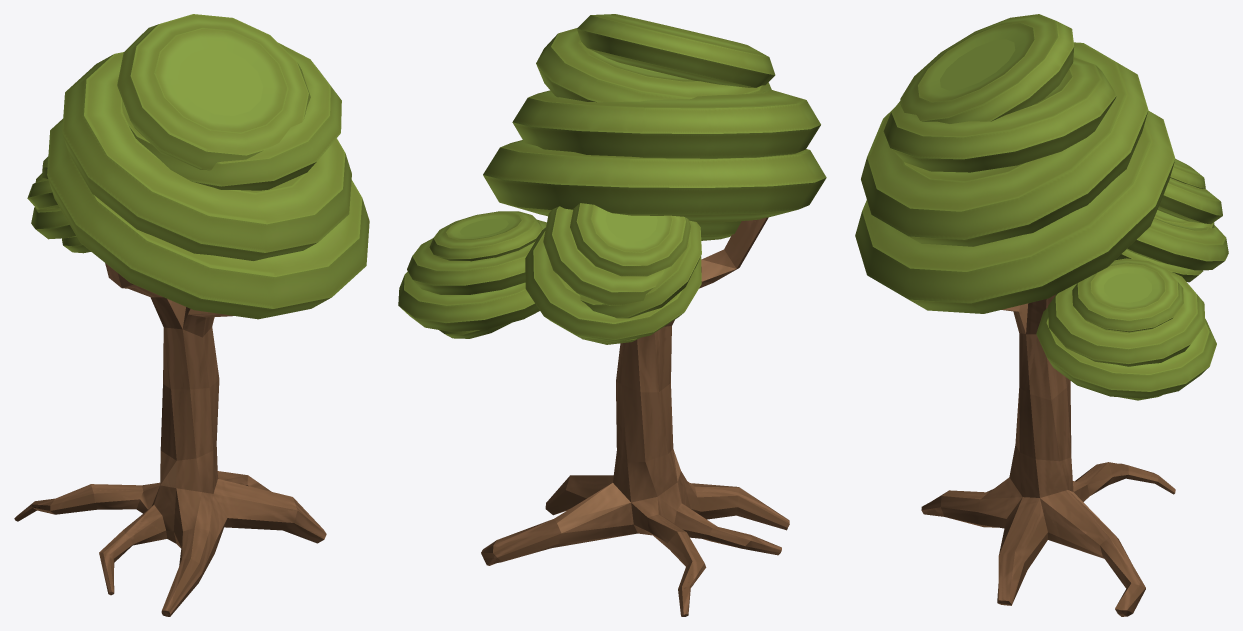
The model's file is Oak.fbx.
The picture shows the model from 3 angles, left to right: view 1: azimuth 30°, elevation 25°; view 2: azimuth 150°, elevation 25°; view 3: azimuth 270°, elevation 25°; orthographic projection.
Parts seen in each view (by area): view 1: Oak; view 2: Oak; view 3: Oak.
Boxes of the visible parts, left/top/right/bottom form: Oak: left=14, top=14, right=369, bottom=616; Oak: left=398, top=14, right=826, bottom=616; Oak: left=855, top=14, right=1228, bottom=616.
Size of the model in its own units: 11.24 by 17.35 by 11.07.
Materials: 1 (1 with a texture image).
